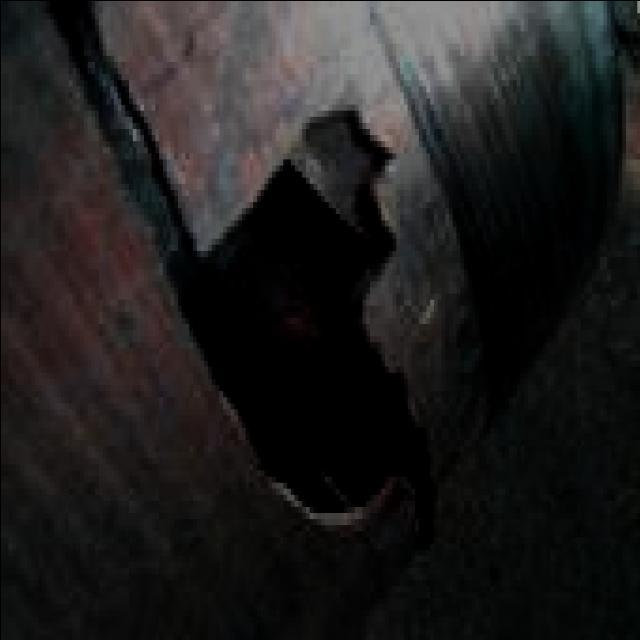Dry Waste: (48, 0, 541, 629)
